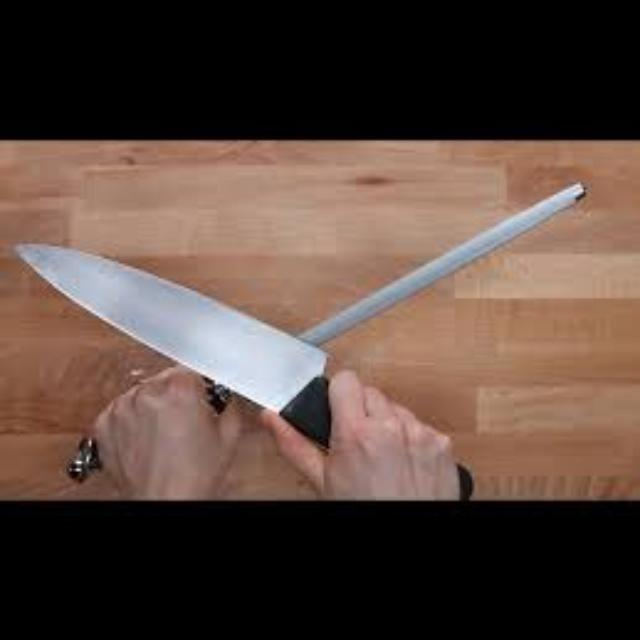Knife: (12, 238, 336, 450)
Person: (74, 304, 502, 502)
Weapon Holding: (278, 360, 462, 500)
